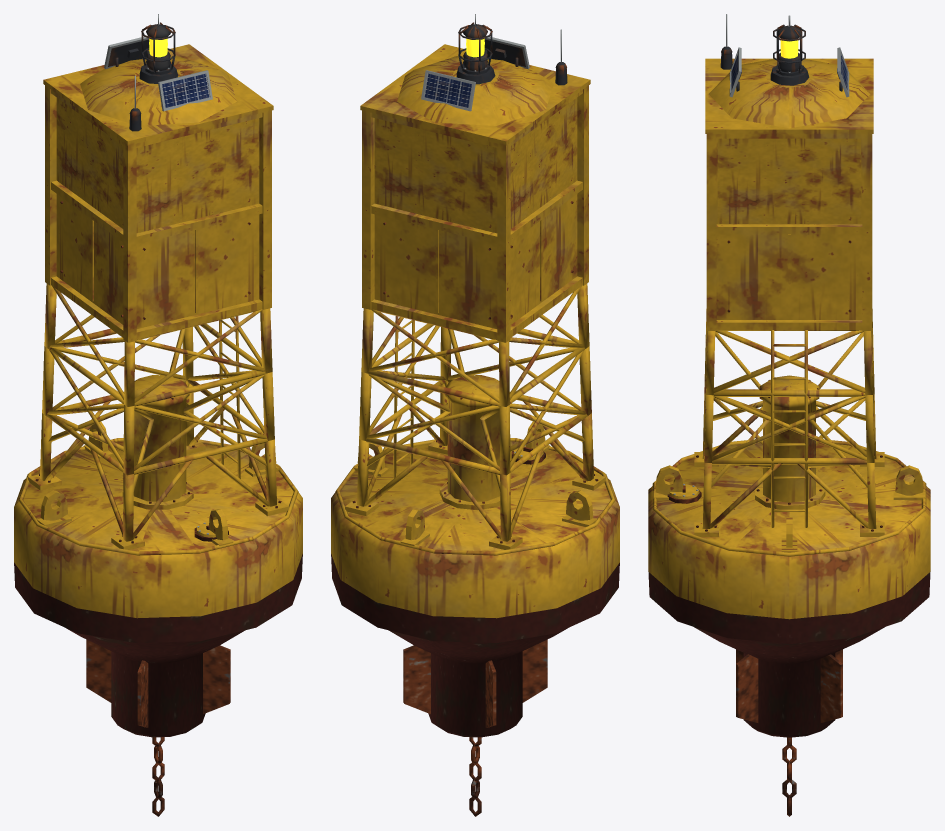
File: buoy_traffic_separation.glb
3 views of the same model, side by side, from view 1: azimuth 30°, elevation 25°; view 2: azimuth 150°, elevation 25°; view 3: azimuth 270°, elevation 25° (orthographic).
Parts seen in each view (by area): view 1: buoy_traffic_separation; view 2: buoy_traffic_separation; view 3: buoy_traffic_separation.
Part boxes in pixels (x1=…): buoy_traffic_separation: x1=14, y1=14, x2=302, y2=816; buoy_traffic_separation: x1=331, y1=14, x2=619, y2=816; buoy_traffic_separation: x1=648, y1=14, x2=930, y2=816.
Bounding box in the file's own units: 2.58 × 7.89 × 2.52.
Materials: 7 (5 with a texture image).
